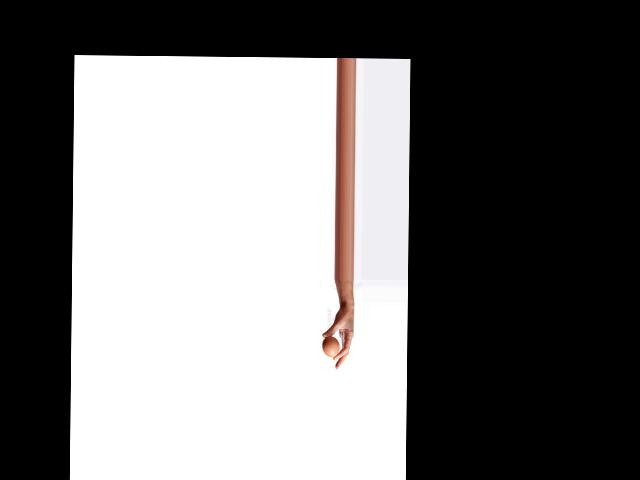egg: (322, 335, 339, 357)
